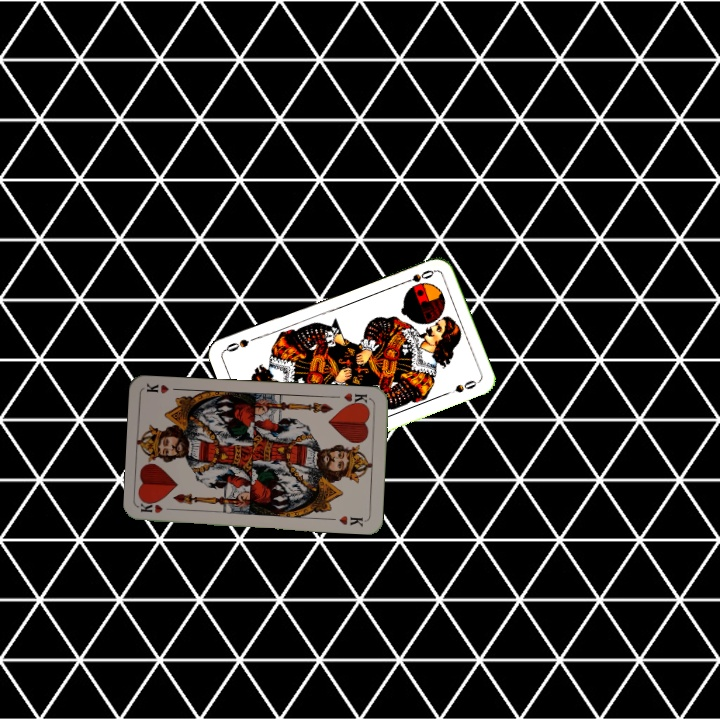HK: (138, 499, 178, 516), (340, 389, 372, 409)
SO: (398, 266, 437, 287)
